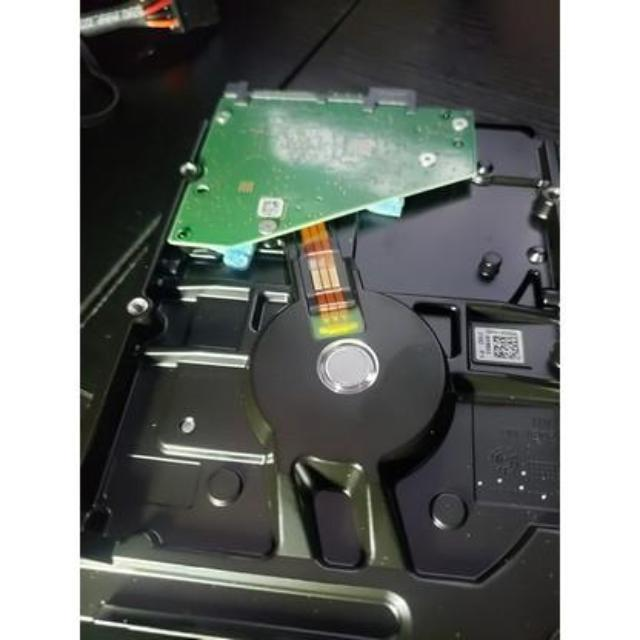DISK: (79, 80, 556, 640)
